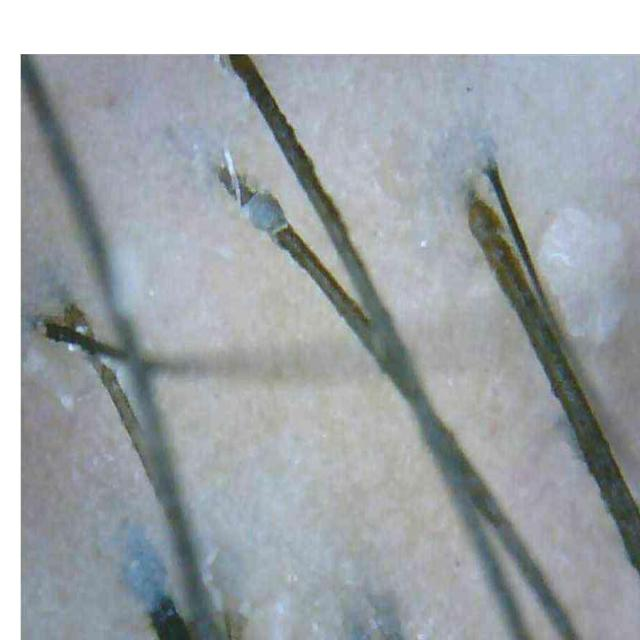d: (60, 395, 74, 412), (74, 324, 89, 335), (69, 343, 78, 351)
ds: (538, 207, 629, 344)
